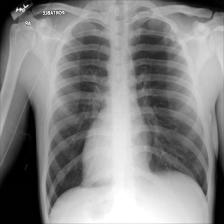normal: (42, 10, 210, 219)
